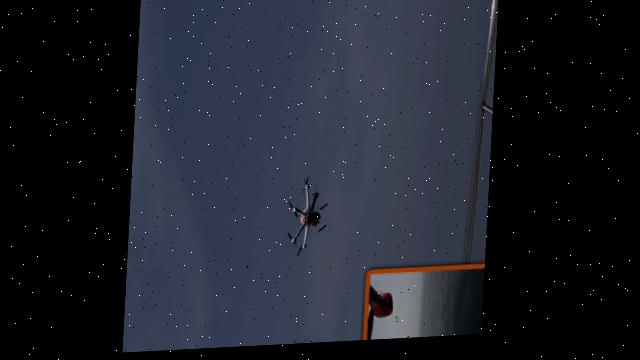drone: (284, 170, 335, 274)
